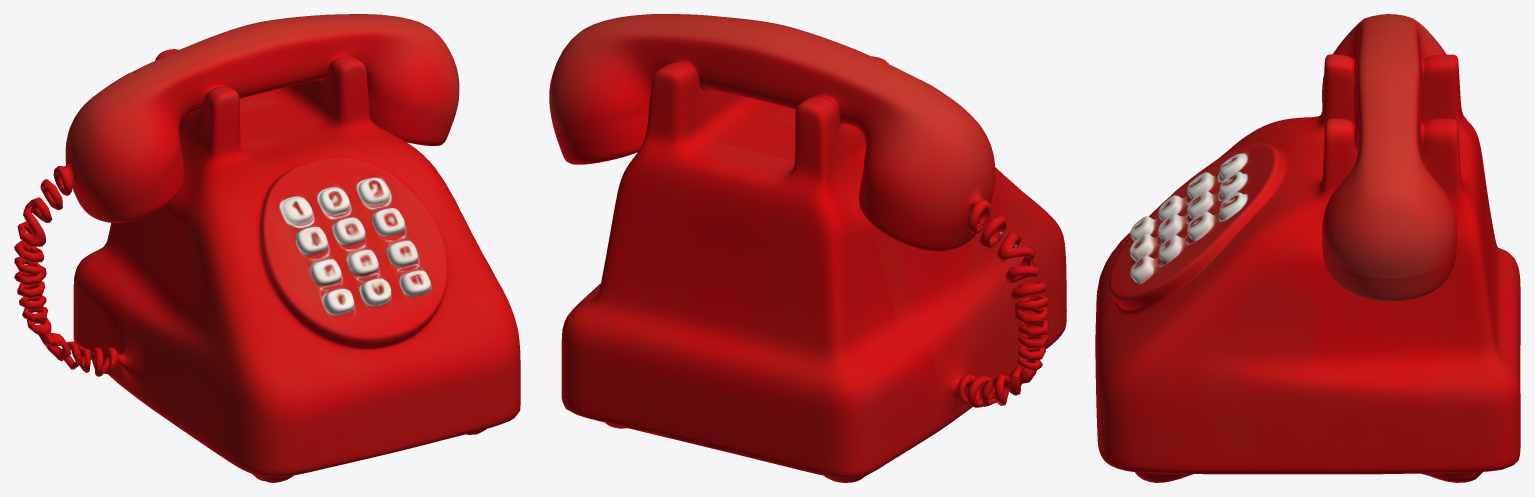
Rendered from base_basic_pbr.glb.
3 renders of one model, left to right at view 1: azimuth 30°, elevation 25°; view 2: azimuth 150°, elevation 25°; view 3: azimuth 270°, elevation 25°, orthographic. The views are drawn at different scales.
Parts seen in each view (by area): view 1: model; view 2: model; view 3: model.
Part boxes in pixels (x1=…): model: x1=14, y1=14, x2=520, y2=482; model: x1=549, y1=14, x2=1066, y2=482; model: x1=1095, y1=14, x2=1520, y2=482.
Size of the model in its own units: 1.89 by 1.45 by 1.52.
1 material, 1 textured.
